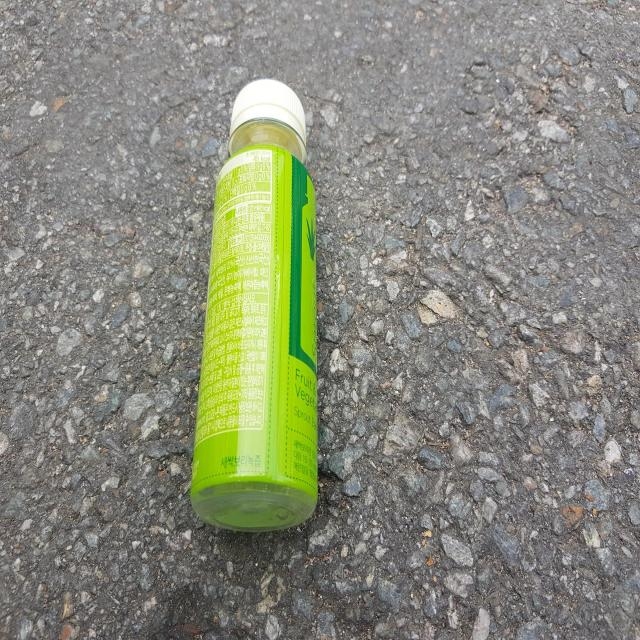plastic: (190, 78, 318, 532)
